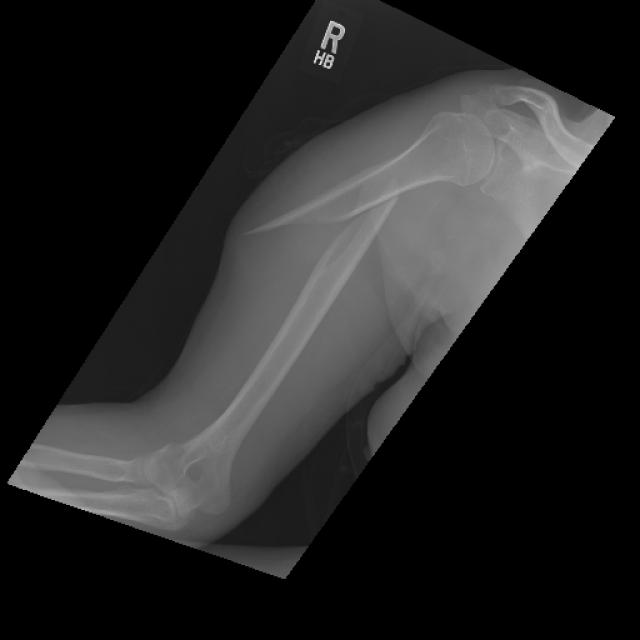humerus fracture: (229, 152, 435, 351)
